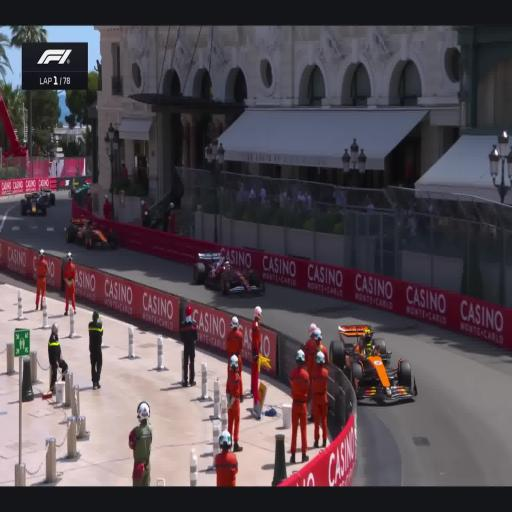f1_car: (330, 325, 417, 402), (192, 253, 265, 294), (65, 219, 118, 248), (20, 190, 51, 215), (40, 188, 55, 206), (53, 194, 54, 204)
